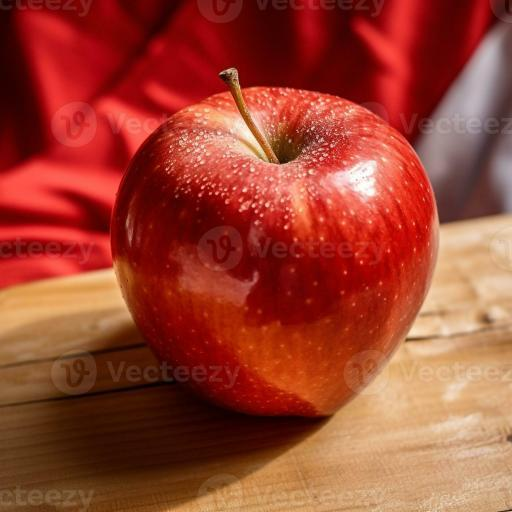apple: (112, 70, 438, 416)
